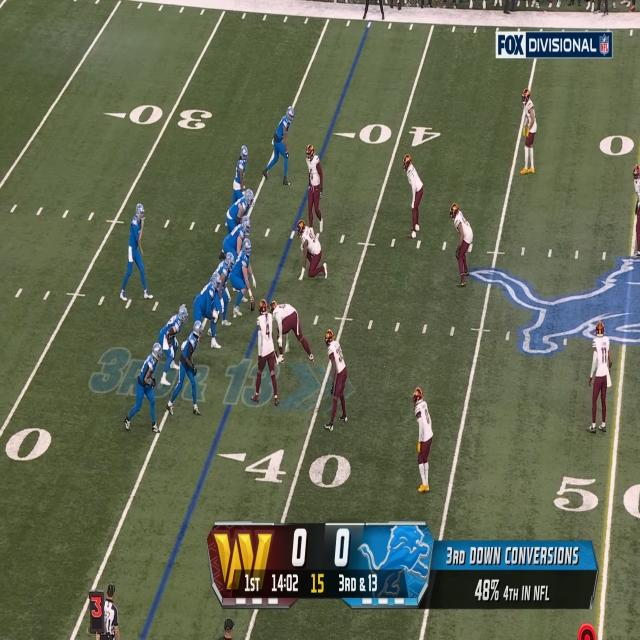Ball: (250, 298, 256, 312)
